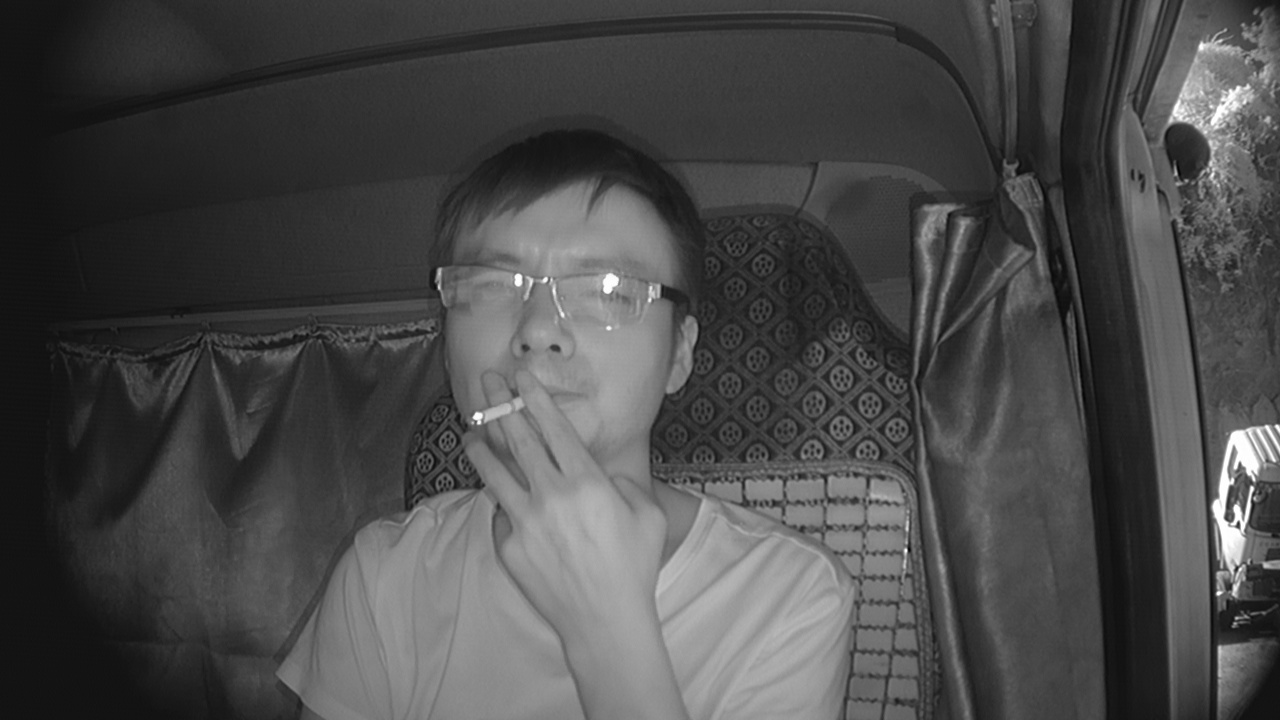hand: (469, 367, 654, 594)
